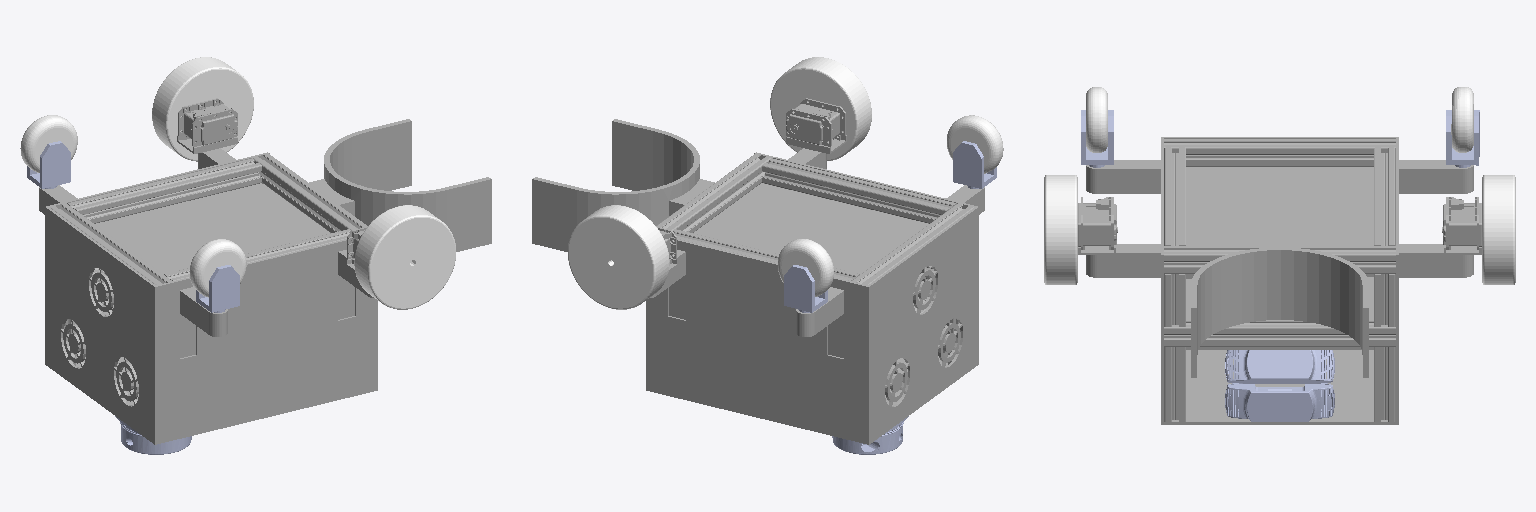
URDF robot description (4wheel):
<?xml version="1.0" encoding="utf-8"?>
<!-- This URDF was automatically created by SolidWorks to URDF Exporter! Originally created by [author] ([email redacted]) 
     Commit Version: 1.5.1-0-g916b5db  Build Version: 1.5.7152.31018
     For more information, please see http://wiki.ros.org/sw_urdf_exporter -->
<robot
  name="4wheel">
  <link
    name="Body">
    <inertial>
      <origin
        xyz="-0.142308649679038 -0.108885138044438 -0.0585567936495662"
        rpy="0 0 0" />
      <mass
        value="5.32485366509136" />
      <inertia
        ixx="0.0149047739346839"
        ixy="1.4797519813405E-06"
        ixz="7.80337093935826E-06"
        iyy="0.0219378727233069"
        iyz="-4.01751561825011E-06"
        izz="0.023203020823872" />
    </inertial>
    <visual>
      <origin
        xyz="0 0 0"
        rpy="0 0 0" />
      <geometry>
        <mesh
          filename="package://4wheel/meshes/Body.STL" />
      </geometry>
      <material
        name="">
        <color
          rgba="0.752941176470588 0.752941176470588 0.752941176470588 1" />
      </material>
    </visual>
    <collision>
      <origin
        xyz="0 0 0"
        rpy="0 0 0" />
      <geometry>
        <mesh
          filename="package://4wheel/meshes/Body.STL" />
      </geometry>
    </collision>
  </link>
  <link
    name="LFS">
    <inertial>
      <origin
        xyz="0.0666875210853818 -0.0256174029954353 0.0272583251967585"
        rpy="0 0 0" />
      <mass
        value="0.26437001106024" />
      <inertia
        ixx="3.20746276473133E-05"
        ixy="-1.44118283521332E-07"
        ixz="-6.30853084344607E-08"
        iyy="6.22704126338855E-05"
        iyz="-2.01894652764198E-07"
        izz="6.28519936954E-05" />
    </inertial>
    <visual>
      <origin
        xyz="0 0 0"
        rpy="0 0 0" />
      <geometry>
        <mesh
          filename="package://4wheel/meshes/LFS.STL" />
      </geometry>
      <material
        name="">
        <color
          rgba="0.752941176470588 0.752941176470588 0.752941176470588 1" />
      </material>
    </visual>
    <collision>
      <origin
        xyz="0 0 0"
        rpy="0 0 0" />
      <geometry>
        <mesh
          filename="package://4wheel/meshes/LFS.STL" />
      </geometry>
    </collision>
  </link>
  <joint
    name="LFS"
    type="prismatic">
    <origin
      xyz="-0.050812 -0.31516 -0.026427"
      rpy="-0.30763 0 1.5708" />
    <parent
      link="Body" />
    <child
      link="LFS" />
    <axis
      xyz="0 0.3028 -0.95305" />
    <limit
      lower="0"
      upper="0"
      effort="0"
      velocity="0" />
  </joint>
  <link
    name="LFW">
    <inertial>
      <origin
        xyz="-0.00841099113507676 0 0"
        rpy="0 0 0" />
      <mass
        value="0.238771211024829" />
      <inertia
        ixx="0.000299070391410014"
        ixy="-1.55250782770794E-21"
        ixz="2.56332672441179E-22"
        iyy="0.000167368400731884"
        iyz="0"
        izz="0.000167368400731884" />
    </inertial>
    <visual>
      <origin
        xyz="0 0 0"
        rpy="0 0 0" />
      <geometry>
        <mesh
          filename="package://4wheel/meshes/LFW.STL" />
      </geometry>
      <material
        name="">
        <color
          rgba="1 1 1 1" />
      </material>
    </visual>
    <collision>
      <origin
        xyz="0 0 0"
        rpy="0 0 0" />
      <geometry>
        <mesh
          filename="package://4wheel/meshes/LFW.STL" />
      </geometry>
    </collision>
  </link>
  <joint
    name="LFW"
    type="continuous">
    <origin
      xyz="0 -0.047479 0.052309"
      rpy="-2.4847 0 3.1416" />
    <parent
      link="LFS" />
    <child
      link="LFW" />
    <axis
      xyz="1 0 0" />
    <limit
      effort="3.1"
      velocity="7" />
  </joint>
  <link
    name="RFS">
    <inertial>
      <origin
        xyz="0.0724473276378503 -0.0316832521314763 0.0253402400459297"
        rpy="0 0 0" />
      <mass
        value="0.26437001106024" />
      <inertia
        ixx="3.20746276473134E-05"
        ixy="1.44118283521343E-07"
        ixz="6.3085308434452E-08"
        iyy="6.22704126338856E-05"
        iyz="-2.01894652764195E-07"
        izz="6.28519936954001E-05" />
    </inertial>
    <visual>
      <origin
        xyz="0 0 0"
        rpy="0 0 0" />
      <geometry>
        <mesh
          filename="package://4wheel/meshes/RFS.STL" />
      </geometry>
      <material
        name="">
        <color
          rgba="0.752941176470588 0.752941176470588 0.752941176470588 1" />
      </material>
    </visual>
    <collision>
      <origin
        xyz="0 0 0"
        rpy="0 0 0" />
      <geometry>
        <mesh
          filename="package://4wheel/meshes/RFS.STL" />
      </geometry>
    </collision>
  </link>
  <joint
    name="RFS"
    type="prismatic">
    <origin
      xyz="-0.012128 0.10492 -0.026427"
      rpy="-0.30763 0 -1.5708" />
    <parent
      link="Body" />
    <child
      link="RFS" />
    <axis
      xyz="0 0.3028 -0.95305" />
    <limit
      lower="0"
      upper="0"
      effort="0"
      velocity="0" />
  </joint>
  <link
    name="RFW">
    <inertial>
      <origin
        xyz="-0.0141707976875453 -3.46944695195361E-18 0"
        rpy="0 0 0" />
      <mass
        value="0.238771211024828" />
      <inertia
        ixx="0.000299070391410013"
        ixy="7.60876064294631E-22"
        ixz="1.92785199737845E-21"
        iyy="0.000167368400731884"
        iyz="8.470329472543E-22"
        izz="0.000167368400731884" />
    </inertial>
    <visual>
      <origin
        xyz="0 0 0"
        rpy="0 0 0" />
      <geometry>
        <mesh
          filename="package://4wheel/meshes/RFW.STL" />
      </geometry>
      <material
        name="">
        <color
          rgba="1 1 1 1" />
      </material>
    </visual>
    <collision>
      <origin
        xyz="0 0 0"
        rpy="0 0 0" />
      <geometry>
        <mesh
          filename="package://4wheel/meshes/RFW.STL" />
      </geometry>
    </collision>
  </link>
  <joint
    name="RFW"
    type="continuous">
    <origin
      xyz="0 -0.028286 0.058405"
      rpy="-0.36547 0 3.1416" />
    <parent
      link="RFS" />
    <child
      link="RFW" />
    <axis
      xyz="-1 0 0" />
    <limit
      effort="3.1"
      velocity="7" />
  </joint>
  <link
    name="LBS">
    <inertial>
      <origin
        xyz="0.0754022136877308 -0.0206011352566388 0.0126264314730555"
        rpy="0 0 0" />
      <mass
        value="0.197009126147877" />
      <inertia
        ixx="1.68802738687172E-05"
        ixy="-4.8087126764648E-21"
        ixz="2.20355897378544E-20"
        iyy="5.02184885667569E-05"
        iyz="1.0508875929185E-06"
        izz="4.72447473350486E-05" />
    </inertial>
    <visual>
      <origin
        xyz="0 0 0"
        rpy="0 0 0" />
      <geometry>
        <mesh
          filename="package://4wheel/meshes/LBS.STL" />
      </geometry>
      <material
        name="">
        <color
          rgba="0.752941176470588 0.752941176470588 0.752941176470588 1" />
      </material>
    </visual>
    <collision>
      <origin
        xyz="0 0 0"
        rpy="0 0 0" />
      <geometry>
        <mesh
          filename="package://4wheel/meshes/LBS.STL" />
      </geometry>
    </collision>
  </link>
  <joint
    name="LBS"
    type="prismatic">
    <origin
      xyz="-0.23081 -0.31516 -0.01777"
      rpy="-0.30763 0 1.5708" />
    <parent
      link="Body" />
    <child
      link="LBS" />
    <axis
      xyz="0 0.3028 -0.95305" />
    <limit
      lower="0"
      upper="0"
      effort="0"
      velocity="0" />
  </joint>
  <link
    name="LBC">
    <inertial>
      <origin
        xyz="3.69517158149701E-07 -0.0414091858174605 0"
        rpy="0 0 0" />
      <mass
        value="0.0227542250833331" />
      <inertia
        ixx="9.89955638664047E-06"
        ixy="2.3871214006036E-10"
        ixz="-8.16693927717936E-22"
        iyy="3.71555891872552E-06"
        iyz="8.15011205249538E-22"
        izz="1.08253870221592E-05" />
    </inertial>
    <visual>
      <origin
        xyz="0 0 0"
        rpy="0 0 0" />
      <geometry>
        <mesh
          filename="package://4wheel/meshes/LBC.STL" />
      </geometry>
      <material
        name="">
        <color
          rgba="0.792156862745098 0.819607843137255 0.933333333333333 1" />
      </material>
    </visual>
    <collision>
      <origin
        xyz="0 0 0"
        rpy="0 0 0" />
      <geometry>
        <mesh
          filename="package://4wheel/meshes/LBC.STL" />
      </geometry>
    </collision>
  </link>
  <joint
    name="LBC"
    type="continuous">
    <origin
      xyz="0.041161 -0.016816 0.00071326"
      rpy="-1.8784 0 3.1416" />
    <parent
      link="LBS" />
    <child
      link="LBC" />
    <axis
      xyz="0 1 0" />
  </joint>
  <link
    name="LBW">
    <inertial>
      <origin
        xyz="0.0267224744328727 28.310095685258 -33.18477106971"
        rpy="0 0 0" />
      <mass
        value="0.0520359417797529" />
      <inertia
        ixx="2.19659115893153E-05"
        ixy="3.353721075535E-20"
        ixz="-6.55193219591002E-19"
        iyy="1.25404547339816E-05"
        iyz="-1.27054942088145E-21"
        izz="1.25404547339816E-05" />
    </inertial>
    <visual>
      <origin
        xyz="0 0 0"
        rpy="0 0 0" />
      <geometry>
        <mesh
          filename="package://4wheel/meshes/LBW.STL" />
      </geometry>
      <material
        name="">
        <color
          rgba="1 1 1 1" />
      </material>
    </visual>
    <collision>
      <origin
        xyz="0 0 0"
        rpy="0 0 0" />
      <geometry>
        <mesh
          filename="package://4wheel/meshes/LBW.STL" />
      </geometry>
    </collision>
  </link>
  <joint
    name="LBW"
    type="continuous">
    <origin
      xyz="0.39707 -0.051417 43.614"
      rpy="-0.70587 -0.016102 -3.1416" />
    <parent
      link="LBC" />
    <child
      link="LBW" />
    <axis
      xyz="0.78458 0.4719 0.40218" />
  </joint>
  <link
    name="RBS">
    <inertial>
      <origin
        xyz="0.0754022136877307 -0.0206011352566361 0.0126264314730565"
        rpy="0 0 0" />
      <mass
        value="0.197009126147877" />
      <inertia
        ixx="1.68802738687172E-05"
        ixy="1.02893021736943E-20"
        ixz="-2.43477281288207E-20"
        iyy="5.0218488566757E-05"
        iyz="1.0508875929185E-06"
        izz="4.72447473350487E-05" />
    </inertial>
    <visual>
      <origin
        xyz="0 0 0"
        rpy="0 0 0" />
      <geometry>
        <mesh
          filename="package://4wheel/meshes/RBS.STL" />
      </geometry>
      <material
        name="">
        <color
          rgba="0.752941176470588 0.752941176470588 0.752941176470588 1" />
      </material>
    </visual>
    <collision>
      <origin
        xyz="0 0 0"
        rpy="0 0 0" />
      <geometry>
        <mesh
          filename="package://4wheel/meshes/RBS.STL" />
      </geometry>
    </collision>
  </link>
  <joint
    name="RBS"
    type="prismatic">
    <origin
      xyz="-0.19919 0.099161 -0.01777"
      rpy="-0.30763 0 -1.5708" />
    <parent
      link="Body" />
    <child
      link="RBS" />
    <axis
      xyz="0 0.3028 -0.95305" />
    <limit
      lower="0"
      upper="0"
      effort="0"
      velocity="0" />
  </joint>
  <link
    name="RBC">
    <inertial>
      <origin
        xyz="3.6951715815664E-07 -0.0414091858174606 0"
        rpy="0 0 0" />
      <mass
        value="0.0227542250833332" />
      <inertia
        ixx="9.89955638664048E-06"
        ixy="2.38712140064329E-10"
        ixz="5.29395592033938E-22"
        iyy="3.71555891872553E-06"
        iyz="-1.05023826578105E-21"
        izz="1.08253870221592E-05" />
    </inertial>
    <visual>
      <origin
        xyz="0 0 0"
        rpy="0 0 0" />
      <geometry>
        <mesh
          filename="package://4wheel/meshes/RBC.STL" />
      </geometry>
      <material
        name="">
        <color
          rgba="0.792156862745098 0.819607843137255 0.933333333333333 1" />
      </material>
    </visual>
    <collision>
      <origin
        xyz="0 0 0"
        rpy="0 0 0" />
      <geometry>
        <mesh
          filename="package://4wheel/meshes/RBC.STL" />
      </geometry>
    </collision>
  </link>
  <joint
    name="RBC"
    type="continuous">
    <origin
      xyz="0.041161 -0.016816 0.00071326"
      rpy="-1.2632 0.0048755 -0.015346" />
    <parent
      link="RBS" />
    <child
      link="RBC" />
    <axis
      xyz="0 1 0" />
  </joint>
  <link
    name="RBW">
    <inertial>
      <origin
        xyz="0.0228672456348454 11.3581642341472 64.7995163789175"
        rpy="0 0 0" />
      <mass
        value="0.0520359417797529" />
      <inertia
        ixx="2.19659115893153E-05"
        ixy="-1.00333801524259E-21"
        ixz="1.13493085902292E-21"
        iyy="1.25404547339816E-05"
        iyz="0"
        izz="1.25404547339816E-05" />
    </inertial>
    <visual>
      <origin
        xyz="0 0 0"
        rpy="0 0 0" />
      <geometry>
        <mesh
          filename="package://4wheel/meshes/RBW.STL" />
      </geometry>
      <material
        name="">
        <color
          rgba="1 1 1 1" />
      </material>
    </visual>
    <collision>
      <origin
        xyz="0 0 0"
        rpy="0 0 0" />
      <geometry>
        <mesh
          filename="package://4wheel/meshes/RBW.STL" />
      </geometry>
    </collision>
  </link>
  <joint
    name="RBW"
    type="continuous">
    <origin
      xyz="-0.75019 -0.09408 65.784"
      rpy="-2.9677 -0.016102 0" />
    <parent
      link="RBC" />
    <child
      link="RBW" />
    <axis
      xyz="0.75167 -0.6496 0.11407" />
  </joint>
  <link
    name="front_cam">
    <inertial>
      <origin
        xyz="0.0498359968949385 0.0617836354959193 0.0687226592240569"
        rpy="0 0 0" />
      <mass
        value="0.0436119950287128" />
      <inertia
        ixx="4.29479133591131E-06"
        ixy="-8.85791114122665E-10"
        ixz="-1.01813691701103E-09"
        iyy="2.21058141232447E-05"
        iyz="2.17579681215275E-08"
        izz="2.35707058046401E-05" />
    </inertial>
    <visual>
      <origin
        xyz="0 0 0"
        rpy="0 0 0" />
      <geometry>
        <mesh
          filename="package://4wheel/meshes/front_cam.STL" />
      </geometry>
      <material
        name="">
        <color
          rgba="0.792156862745098 0.819607843137255 0.933333333333333 1" />
      </material>
    </visual>
    <collision>
      <origin
        xyz="0 0 0"
        rpy="0 0 0" />
      <geometry>
        <mesh
          filename="package://4wheel/meshes/front_cam.STL" />
      </geometry>
    </collision>
  </link>
  <joint
    name="front_cam"
    type="fixed">
    <origin
      xyz="-0.080278 -0.058161 -0.069504"
      rpy="-1.5708 0 -1.5708" />
    <parent
      link="Body" />
    <child
      link="front_cam" />
    <axis
      xyz="0 0 0" />
  </joint>
  <link
    name="ball_cam">
    <inertial>
      <origin
        xyz="0.0498359969149468 0.0617836350059216 -0.00374618107735901"
        rpy="0 0 0" />
      <mass
        value="0.0436119951630771" />
      <inertia
        ixx="4.29479053059235E-06"
        ixy="-8.85260765880992E-10"
        ixz="-1.01843552510659E-09"
        iyy="2.21058148138208E-05"
        iyz="2.17580969417609E-08"
        izz="2.35707057054942E-05" />
    </inertial>
    <visual>
      <origin
        xyz="0 0 0"
        rpy="0 0 0" />
      <geometry>
        <mesh
          filename="package://4wheel/meshes/ball_cam.STL" />
      </geometry>
      <material
        name="">
        <color
          rgba="0.792156862745098 0.819607843137255 0.933333333333333 1" />
      </material>
    </visual>
    <collision>
      <origin
        xyz="0 0 0"
        rpy="0 0 0" />
      <geometry>
        <mesh
          filename="package://4wheel/meshes/ball_cam.STL" />
      </geometry>
    </collision>
  </link>
  <joint
    name="ball_cam"
    type="fixed">
    <origin
      xyz="-0.048961 -0.058165 -0.044286"
      rpy="-0.93948 0 -1.5708" />
    <parent
      link="Body" />
    <child
      link="ball_cam" />
    <axis
      xyz="0 0 1" />
  </joint>
  <link
    name="Lidar">
    <inertial>
      <origin
        xyz="-0.0784930224009142 -0.74442743376688 -0.133449662212527"
        rpy="0 0 0" />
      <mass
        value="0.0730845703902162" />
      <inertia
        ixx="1.95808756635695E-05"
        ixy="4.28391179298427E-07"
        ixz="-1.03933565415068E-07"
        iyy="4.14184515330581E-05"
        iyz="-9.42709167560439E-09"
        izz="2.41250078994433E-05" />
    </inertial>
    <visual>
      <origin
        xyz="0 0 0"
        rpy="0 0 0" />
      <geometry>
        <mesh
          filename="package://4wheel/meshes/Lidar.STL" />
      </geometry>
      <material
        name="">
        <color
          rgba="0.792156862745098 0.819607843137255 0.933333333333333 1" />
      </material>
    </visual>
    <collision>
      <origin
        xyz="0 0 0"
        rpy="0 0 0" />
      <geometry>
        <mesh
          filename="package://4wheel/meshes/Lidar.STL" />
      </geometry>
    </collision>
  </link>
  <joint
    name="Lidar"
    type="fixed">
    <origin
      xyz="-0.098561 -0.24092 0.57169"
      rpy="1.5708 0 0" />
    <parent
      link="Body" />
    <child
      link="Lidar" />
    <axis
      xyz="0 0 0" />
  </joint>
</robot>

--- Facts derived from the render (not from the file) ---
Views: 3 orthographic renders of the robot side by side, from view 1: azimuth 30°, elevation 25°; view 2: azimuth 150°, elevation 25°; view 3: azimuth 270°, elevation 25°.
Robot: 4wheel — 14 links, 13 joints (6 continuous, 4 prismatic, 3 fixed); root link Body; default pose: all joints at 0.
Visible links, largest first — view 1: Body, LFW, RFW, RFS, LBW, RBW, RBC, LBC, LBS, Lidar, LFS, RBS; view 2: Body, RFW, LFW, LFS, RBW, LBW, RBC, LBC, RBS, Lidar, RFS, LBS; view 3: Body, RFS, LFS, front_cam, LFW, RFW, ball_cam, LBS, RBS, LBW, RBW, RBC (+1 smaller).
Link boxes in pixels (<box>): Body: <box>45,119,491,444</box>; LFW: <box>354,205,455,309</box>; RFW: <box>152,57,253,161</box>; RFS: <box>177,98,237,168</box>; LBW: <box>20,115,77,172</box>; RBW: <box>190,239,246,297</box>; RBC: <box>27,141,70,188</box>; LBC: <box>196,265,239,312</box>; LBS: <box>180,287,227,336</box>; Lidar: <box>115,416,191,454</box>; LFS: <box>338,227,373,297</box>; RBS: <box>39,185,77,214</box>; Body: <box>532,119,978,444</box>; RFW: <box>568,205,669,309</box>; LFW: <box>770,57,871,160</box>; LFS: <box>786,98,846,168</box>; RBW: <box>947,115,1003,173</box>; LBW: <box>778,239,833,296</box>; RBC: <box>784,265,827,312</box>; LBC: <box>953,141,996,188</box>; RBS: <box>796,287,843,336</box>; Lidar: <box>832,416,908,454</box>; RFS: <box>650,227,685,297</box>; LBS: <box>946,185,984,214</box>; Body: <box>1161,137,1398,424</box>; RFS: <box>1399,197,1481,277</box>; LFS: <box>1078,197,1160,277</box>; front_cam: <box>1225,383,1334,421</box>; LFW: <box>1044,175,1077,284</box>; RFW: <box>1482,175,1515,284</box>; ball_cam: <box>1225,350,1334,383</box>; LBS: <box>1086,160,1160,193</box>; RBS: <box>1399,160,1473,193</box>; LBW: <box>1451,87,1473,152</box>; RBW: <box>1086,87,1107,152</box>; RBC: <box>1446,110,1479,167</box>.
Bounding box of the posed robot: 0.3973 × 0.4275 × 0.2894 m (x, y, z).
14 mesh visuals loaded from 14 distinct referenced files (14 binary STL).